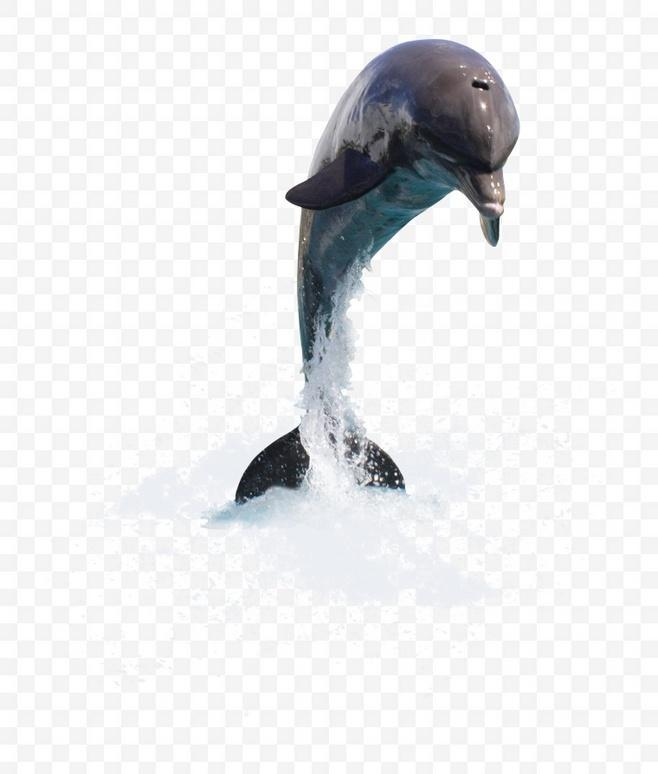fish: (212, 37, 525, 521)
